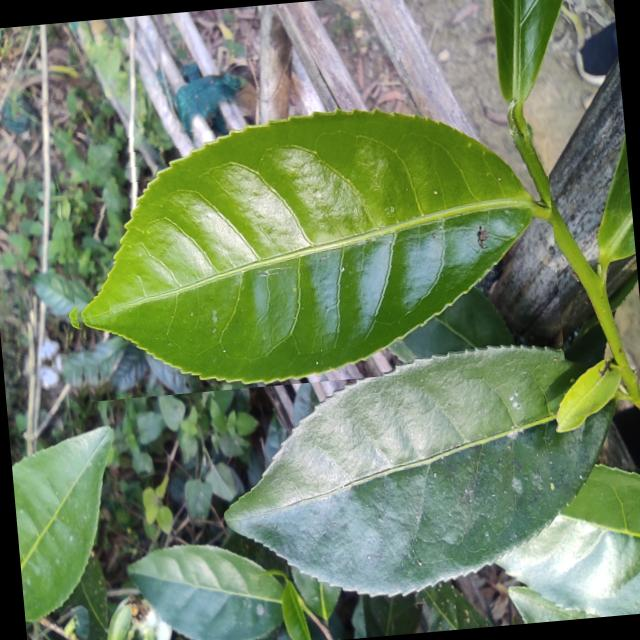Category B(2-4 days): (49, 92, 564, 402)
